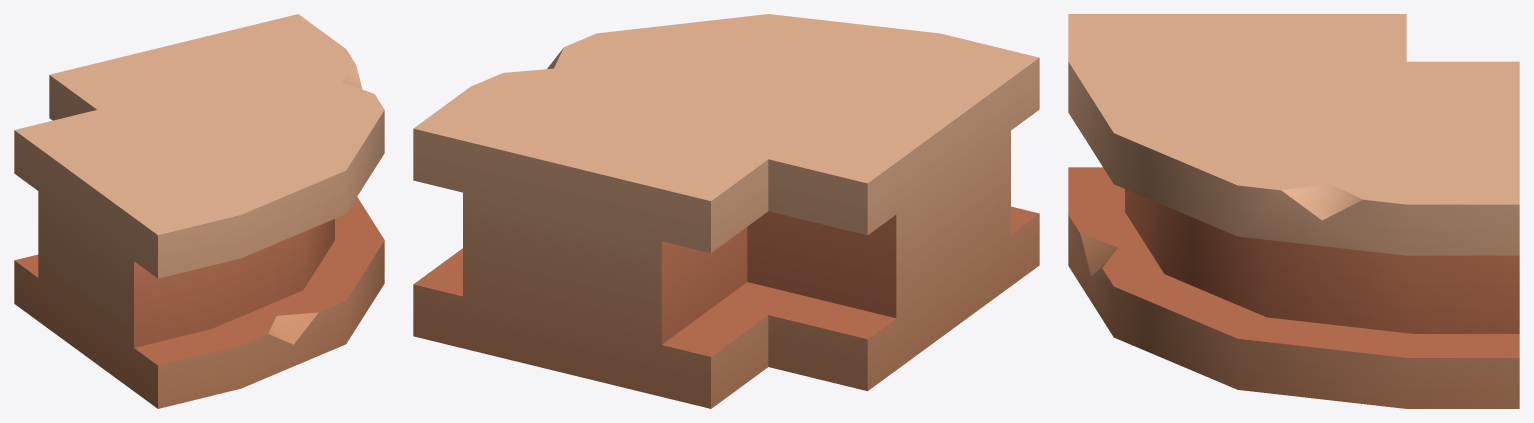
File: border-corner.obj
The picture shows the model from 3 angles, left to right: view 1: azimuth 30°, elevation 25°; view 2: azimuth 150°, elevation 25°; view 3: azimuth 270°, elevation 25°; orthographic projection. The views are drawn at different scales.
Visible parts, largest first — view 1: border-corner; view 2: border-corner; view 3: border-corner.
Boxes of the visible parts, box(x1,y1,x2,y2) form: border-corner: box(14, 14, 384, 408); border-corner: box(413, 14, 1039, 408); border-corner: box(1068, 14, 1519, 408).
Bounding box in the file's own units: 0.8 × 0.4 × 0.8.
1 material, 1 textured.
